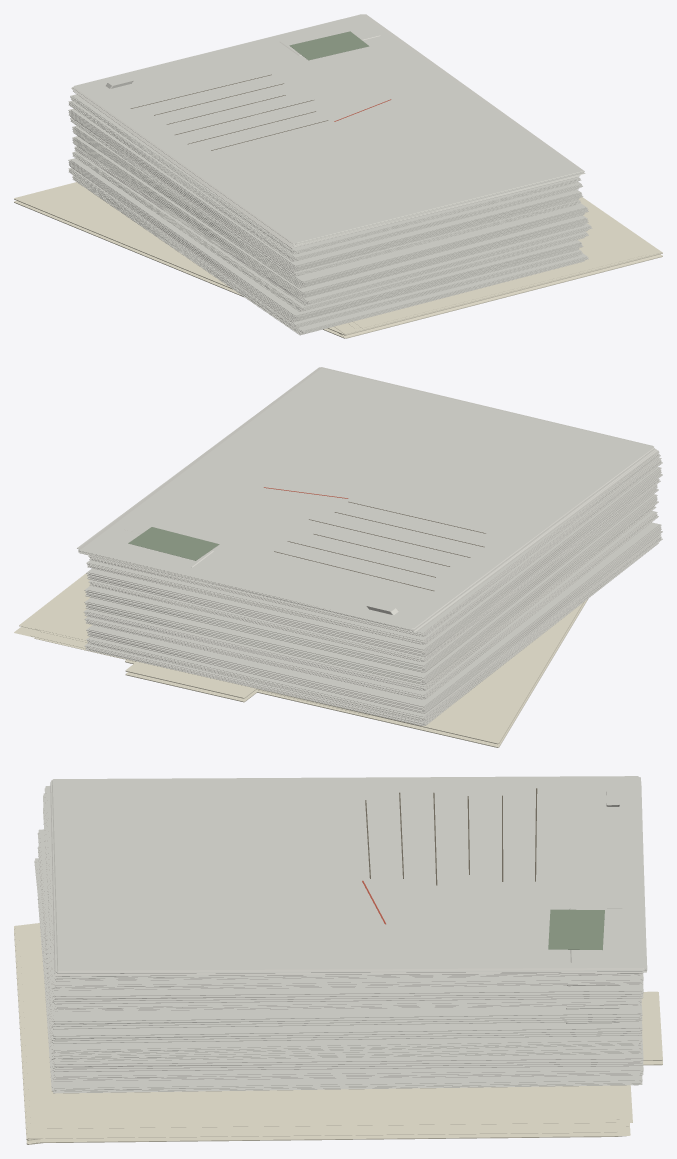
The model's file is X14_LRSGRAY_FILE_03.glb.
3 views of the same model, one above another, from view 1: azimuth 30°, elevation 25°; view 2: azimuth 150°, elevation 25°; view 3: azimuth 270°, elevation 25° (orthographic). The views are drawn at different scales.
Parts seen in each view (by area): view 1: PASS6F_document_stack_13_document_stack_Body, PASS6F_document_folder_1_document_folder_Body, PASS6F_document_stack_4_document_stack_Body, PASS6F_document_stack_8_document_stack_Body, PASS6F_document_stack_7_document_stack_Body, PASS6F_document_stack_10_document_stack_Body, PASS6F_document_stack_11_document_stack_Body, PASS6F_document_stack_5_document_stack_Body, PASS6F_document_stack_12_document_stack_Body, PASS6F_document_stack_3_document_stack_Body, PASS6F_document_stack_6_document_stack_Body, PASS6F_document_stack_2_document_stack_Body (+3 smaller); view 2: PASS6F_document_stack_13_document_stack_Body, PASS6F_document_folder_1_document_folder_Body, PASS6F_document_stack_4_document_stack_Body, PASS6F_document_stack_7_document_stack_Body, PASS6F_document_stack_10_document_stack_Body, PASS6F_document_stack_8_document_stack_Body, PASS6F_document_stack_5_document_stack_Body, PASS6F_document_stack_11_document_stack_Body, PASS6F_document_stack_3_document_stack_Body, PASS6F_document_stack_6_document_stack_Body, PASS6F_document_stack_12_document_stack_Body, PASS6F_document_stack_9_document_stack_Body (+3 smaller); view 3: PASS6F_document_stack_13_document_stack_Body, PASS6F_document_folder_1_document_folder_Body, PASS6F_document_stack_8_document_stack_Body, PASS6F_document_stack_7_document_stack_Body, PASS6F_document_stack_10_document_stack_Body, PASS6F_document_stack_6_document_stack_Body, PASS6F_document_stack_2_document_stack_Body, PASS6F_document_stack_4_document_stack_Body, PASS6F_document_stack_11_document_stack_Body, PASS6F_document_stack_3_document_stack_Body, PASS6F_document_stack_5_document_stack_Body, PASS6F_document_stack_9_document_stack_Body (+3 smaller).
Part boxes in pixels (x1,y1,x2,y2): PASS6F_document_stack_13_document_stack_Body: (71, 14, 585, 248); PASS6F_document_folder_1_document_folder_Body: (14, 182, 662, 335); PASS6F_document_stack_4_document_stack_Body: (68, 158, 583, 322); PASS6F_document_stack_8_document_stack_Body: (72, 125, 588, 288); PASS6F_document_stack_7_document_stack_Body: (72, 136, 588, 299); PASS6F_document_stack_10_document_stack_Body: (68, 108, 583, 272); PASS6F_document_stack_11_document_stack_Body: (68, 100, 582, 261); PASS6F_document_stack_5_document_stack_Body: (72, 151, 588, 311); PASS6F_document_stack_12_document_stack_Body: (70, 94, 581, 254); PASS6F_document_stack_3_document_stack_Body: (68, 167, 582, 328); PASS6F_document_stack_6_document_stack_Body: (74, 146, 592, 305); PASS6F_document_stack_2_document_stack_Body: (72, 175, 588, 335); PASS6F_document_stack_13_document_stack_Body: (77, 367, 658, 631); PASS6F_document_folder_1_document_folder_Body: (19, 573, 583, 744); PASS6F_document_stack_4_document_stack_Body: (86, 522, 662, 713); PASS6F_document_stack_7_document_stack_Body: (84, 494, 658, 684); PASS6F_document_stack_10_document_stack_Body: (86, 467, 662, 656); PASS6F_document_stack_8_document_stack_Body: (84, 484, 658, 672); PASS6F_document_stack_5_document_stack_Body: (84, 511, 658, 699); PASS6F_document_stack_11_document_stack_Body: (86, 457, 662, 644); PASS6F_document_stack_3_document_stack_Body: (86, 534, 662, 720); PASS6F_document_stack_6_document_stack_Body: (84, 505, 656, 690); PASS6F_document_stack_12_document_stack_Body: (88, 451, 660, 636); PASS6F_document_stack_9_document_stack_Body: (88, 479, 660, 661); PASS6F_document_stack_13_document_stack_Body: (50, 776, 647, 976); PASS6F_document_folder_1_document_folder_Body: (14, 923, 662, 1140); PASS6F_document_stack_8_document_stack_Body: (37, 829, 642, 1029); PASS6F_document_stack_7_document_stack_Body: (37, 847, 642, 1043); PASS6F_document_stack_10_document_stack_Body: (43, 807, 643, 1004); PASS6F_document_stack_6_document_stack_Body: (34, 858, 642, 1055); PASS6F_document_stack_2_document_stack_Body: (37, 899, 642, 1093); PASS6F_document_stack_4_document_stack_Body: (52, 1035, 643, 1071); PASS6F_document_stack_11_document_stack_Body: (43, 793, 643, 990); PASS6F_document_stack_3_document_stack_Body: (52, 1060, 643, 1081); PASS6F_document_stack_5_document_stack_Body: (50, 1035, 642, 1061); PASS6F_document_stack_9_document_stack_Body: (54, 998, 641, 1011).
Size of the model in its own units: 0.3217 by 0.0688 by 0.3089.
